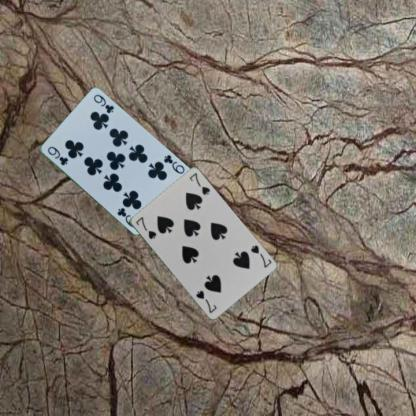7s: (248, 242, 273, 268), (133, 214, 157, 240)
9c: (44, 144, 70, 167), (160, 152, 186, 175)
